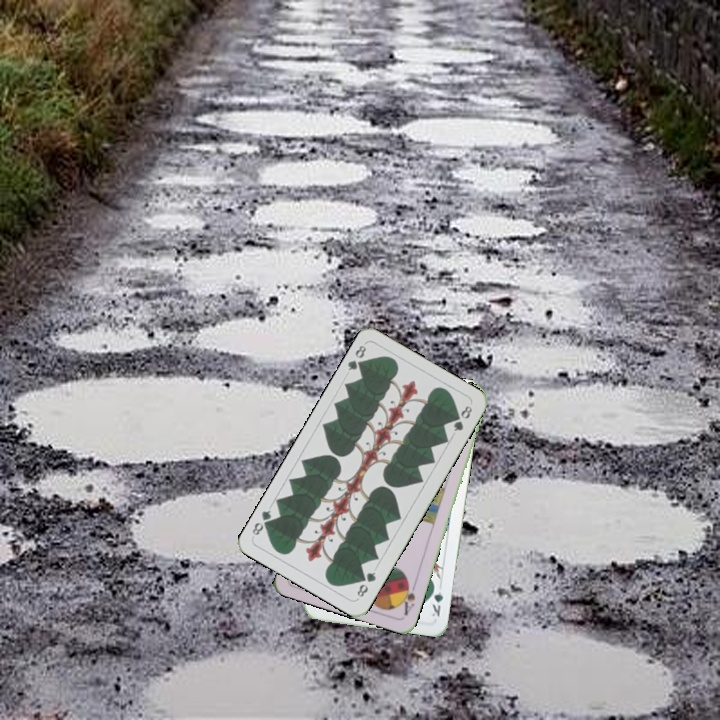G8: (353, 568, 379, 600), (344, 341, 369, 374)
GK: (428, 580, 445, 619)
SA: (396, 577, 419, 618)
